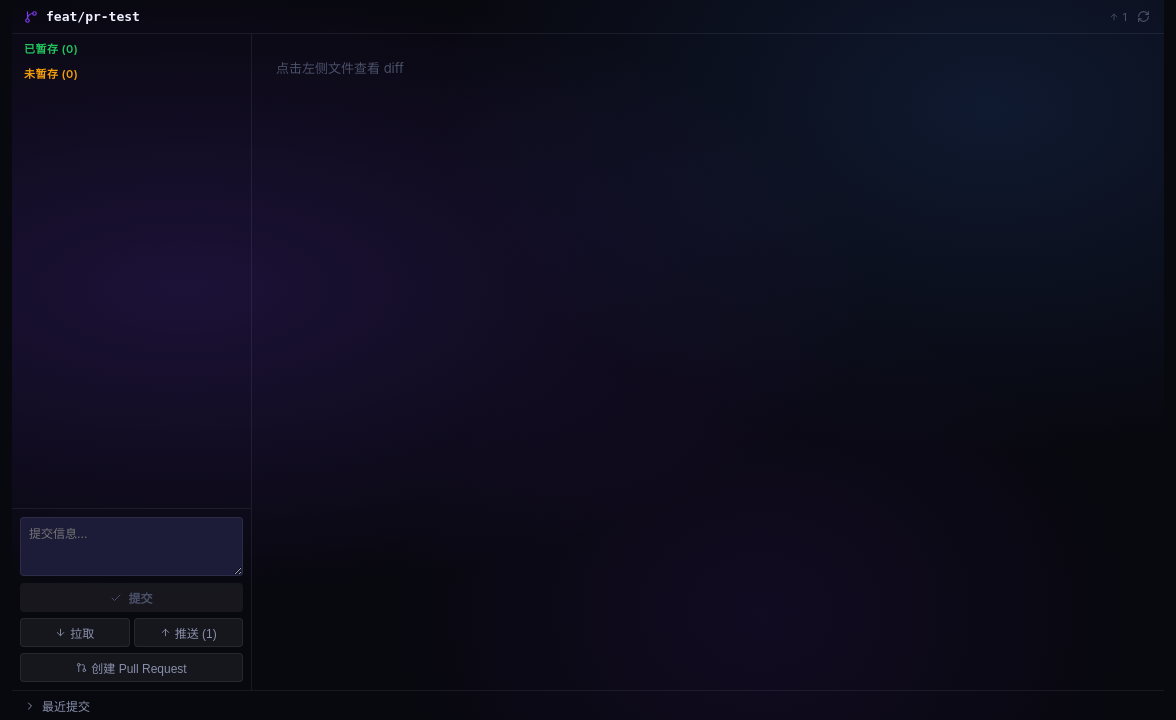
GitPanel - PR 创建流程 › 填写标题后提交成功显示"PR 已创建"
Click the button "创建 Pull Request". click: (132, 668)
box: [20, 653, 243, 682]
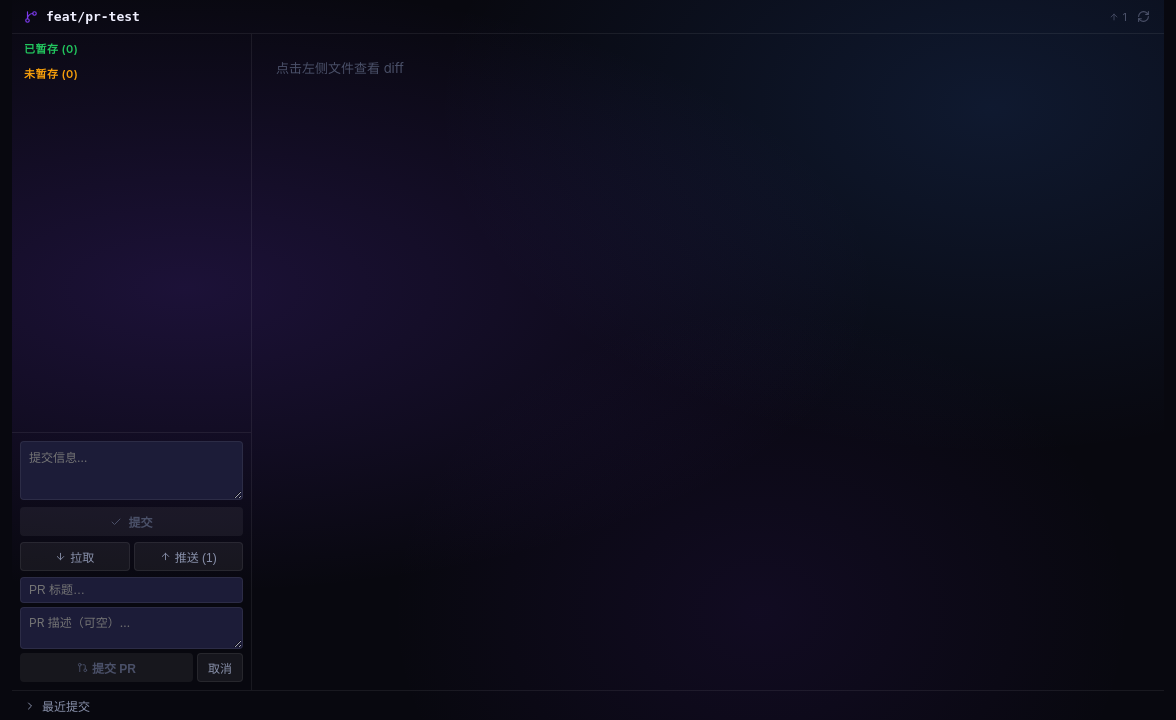
Check: the field with placeholder "PR 标题…" is shown
Type "feat: 新功能" into the field with placeholder "PR 标题…". click: (132, 590)
box: [20, 577, 243, 603]
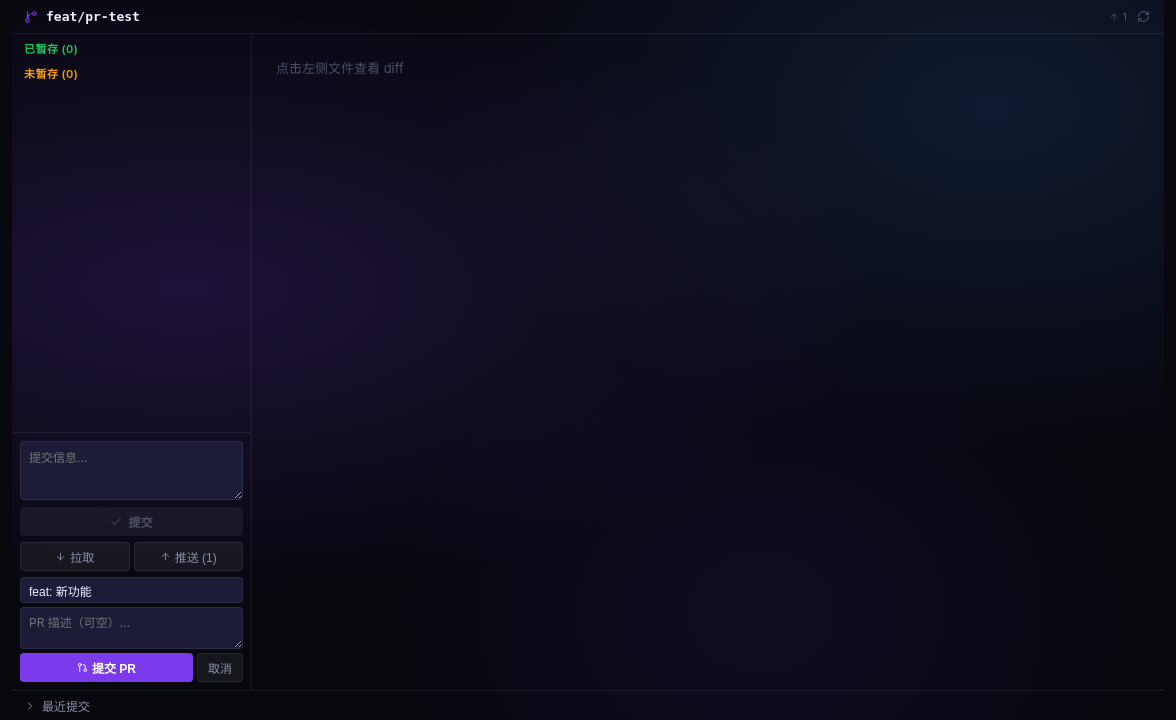
Click the button "提交 PR". click: (106, 668)
box: [20, 653, 193, 682]
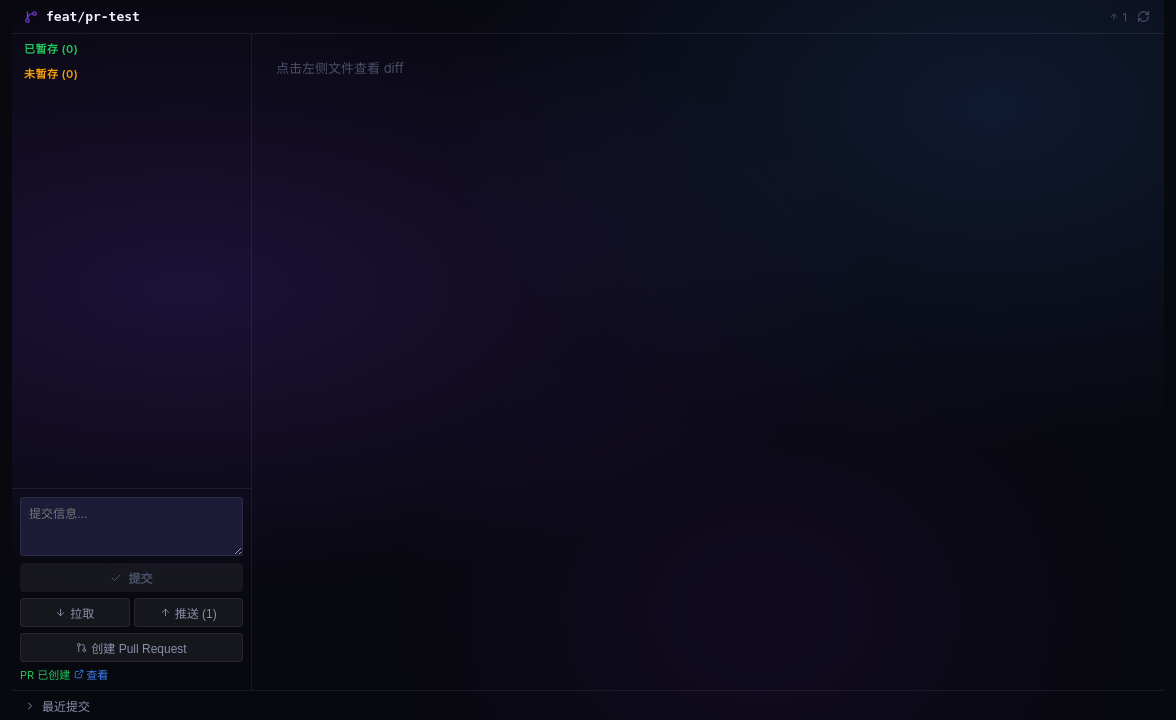
Check: the text "PR 已创建" is shown, box [20, 668, 70, 682]
